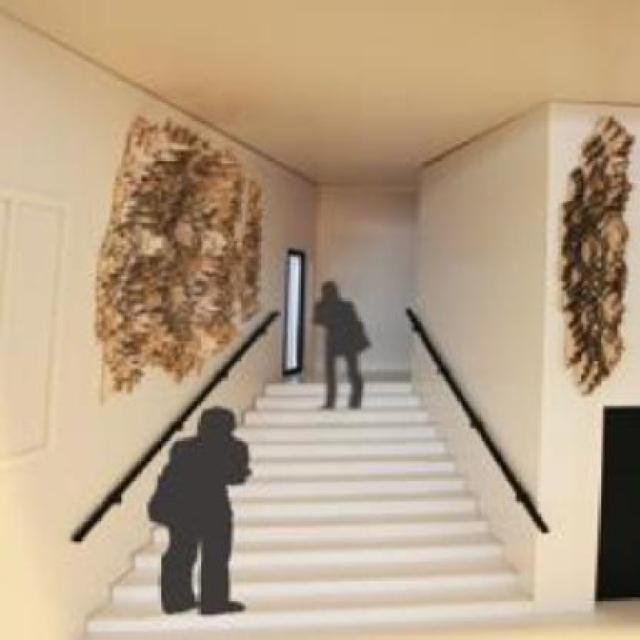stair: (72, 372, 554, 636)
